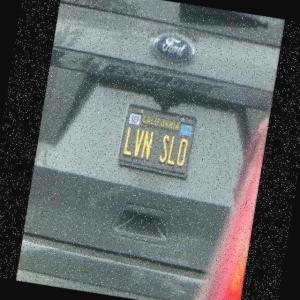Plate: (118, 103, 197, 182)
